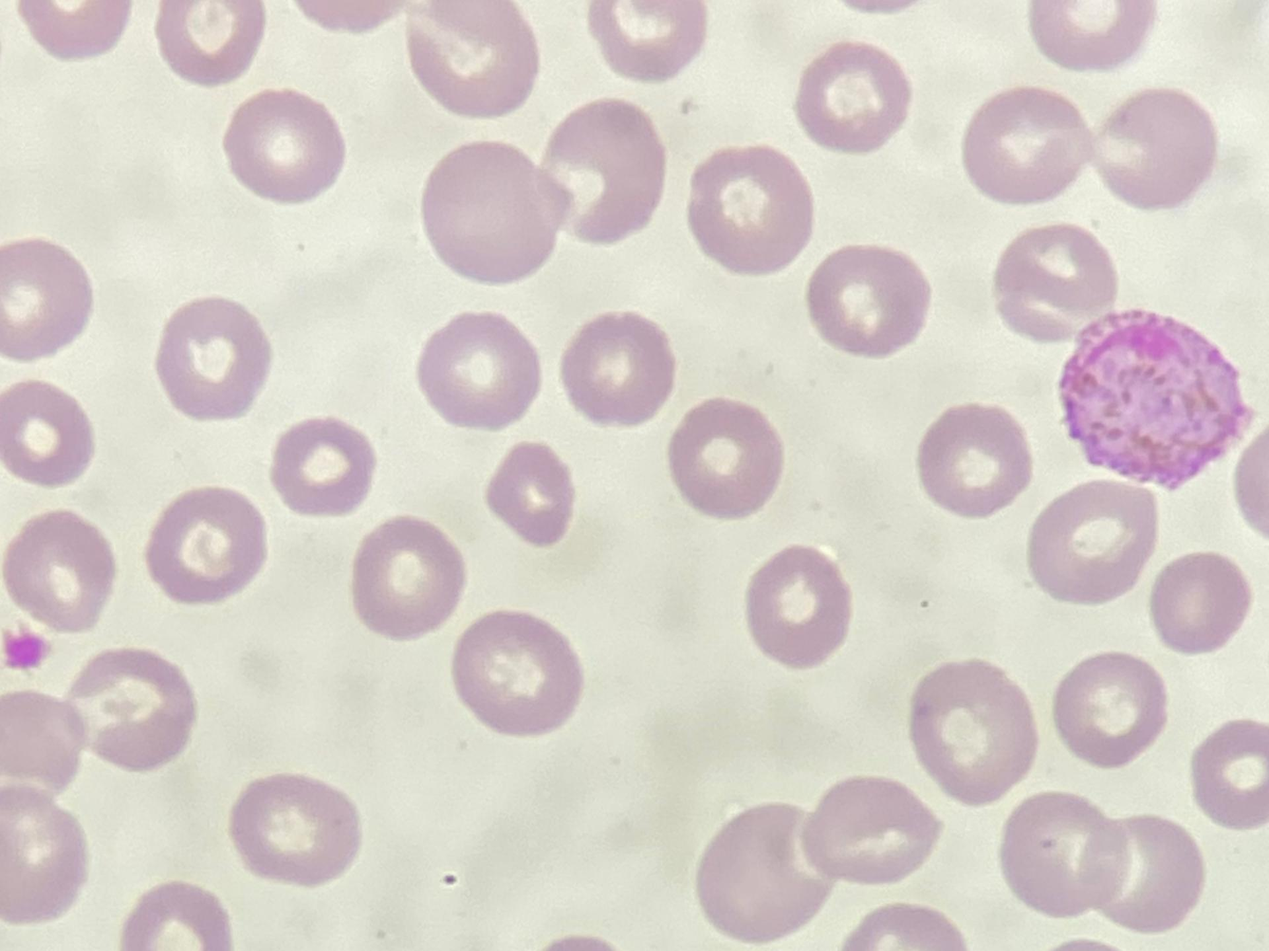Infected: (1060, 311, 1259, 493)
Uninfected: (422, 142, 566, 281), (697, 805, 833, 940), (909, 663, 1038, 804), (543, 99, 666, 241), (1024, 477, 1160, 603), (1002, 795, 1129, 921), (686, 146, 812, 272), (452, 611, 580, 735), (800, 775, 941, 887), (406, 3, 541, 118), (69, 648, 194, 772), (962, 86, 1092, 205), (1096, 86, 1217, 209), (143, 490, 272, 603), (418, 311, 540, 430), (993, 223, 1117, 339), (230, 774, 356, 887), (156, 297, 271, 418), (3, 510, 115, 634), (351, 517, 465, 637), (224, 88, 342, 203), (806, 244, 927, 356), (669, 397, 783, 515), (1053, 652, 1166, 769), (746, 545, 853, 665), (796, 41, 911, 152), (921, 402, 1031, 518), (561, 311, 673, 424), (1097, 816, 1201, 932), (1, 794, 91, 922), (1, 237, 94, 358), (0, 379, 97, 488), (270, 416, 376, 515), (1149, 550, 1248, 652), (485, 440, 577, 546), (0, 689, 88, 794), (594, 1, 705, 81), (158, 1, 264, 83), (1190, 720, 1269, 827), (121, 883, 227, 948)
